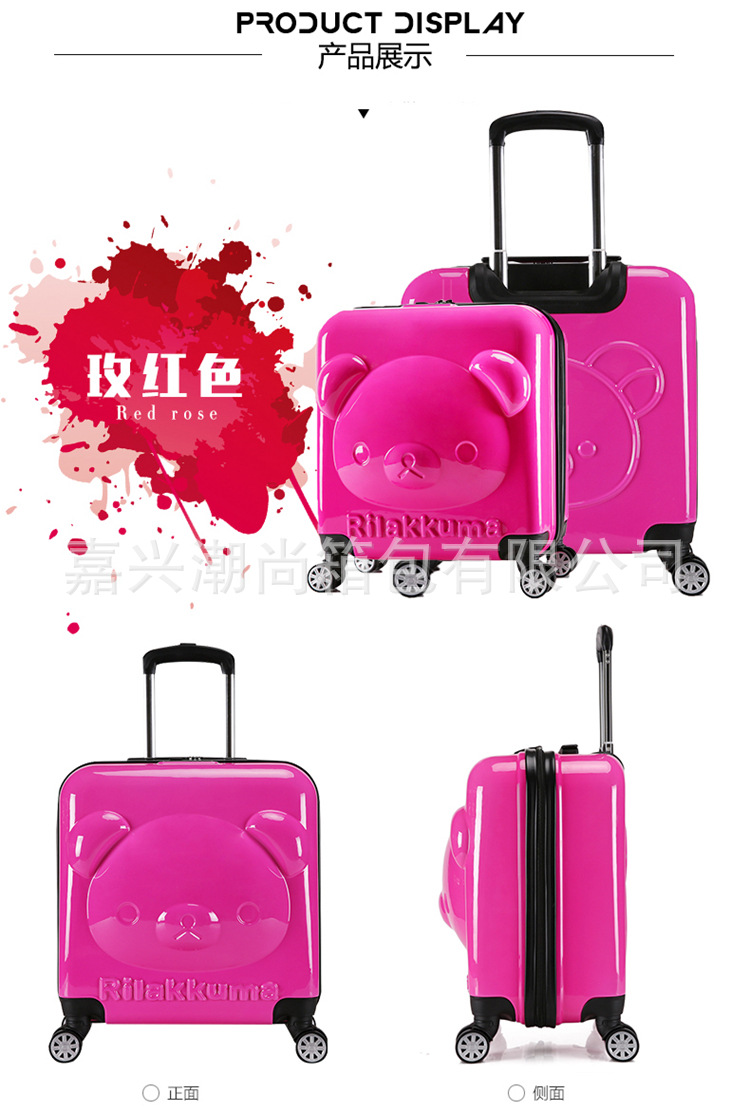luggage: (438, 626, 642, 1065)
